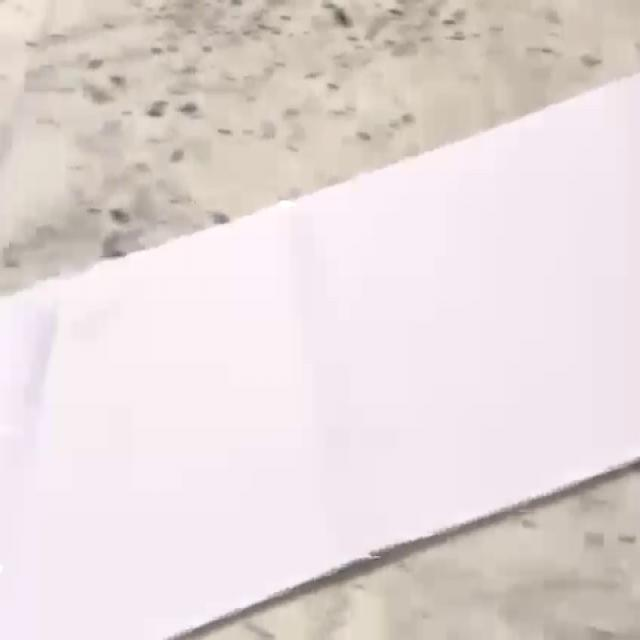road: (0, 74, 640, 637)
